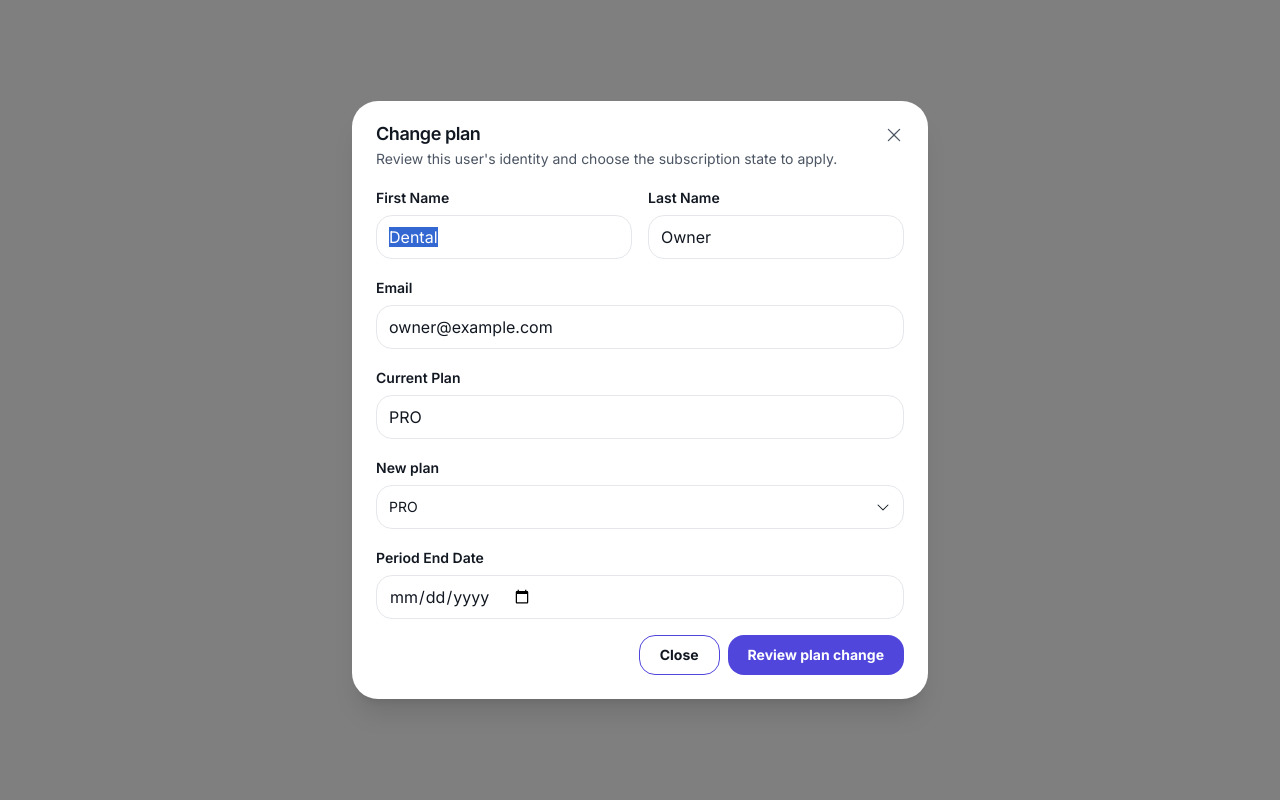
Test: UpgradePlanModal › preserves the plan form and draft when the mutation fails
Type "2027-03-15" into the date field labelled "Period End Date" at coordinates (640, 597), box [376,575,904,619]
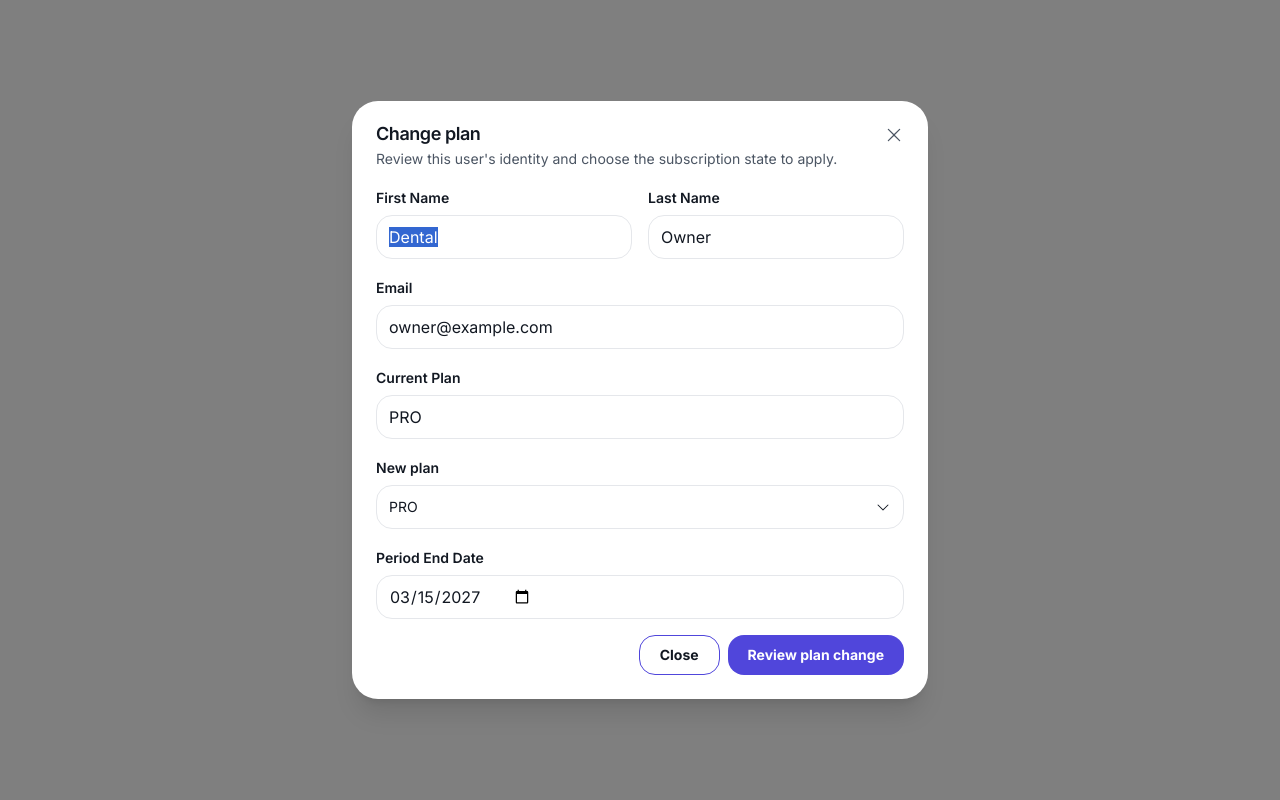
Click the button "Review plan change" at coordinates (816, 655), box [728,635,904,675]
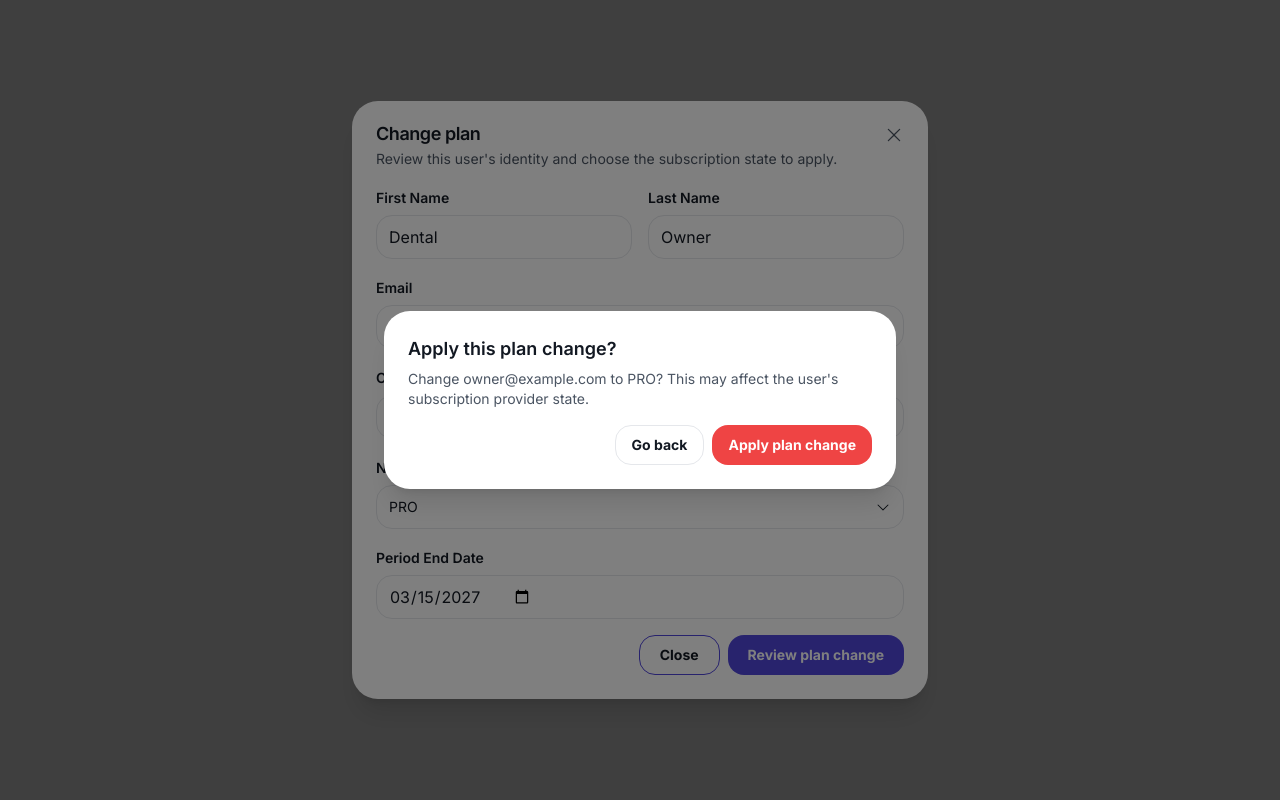
Click the button "Apply plan change" at coordinates (792, 445), box [712,425,872,465]
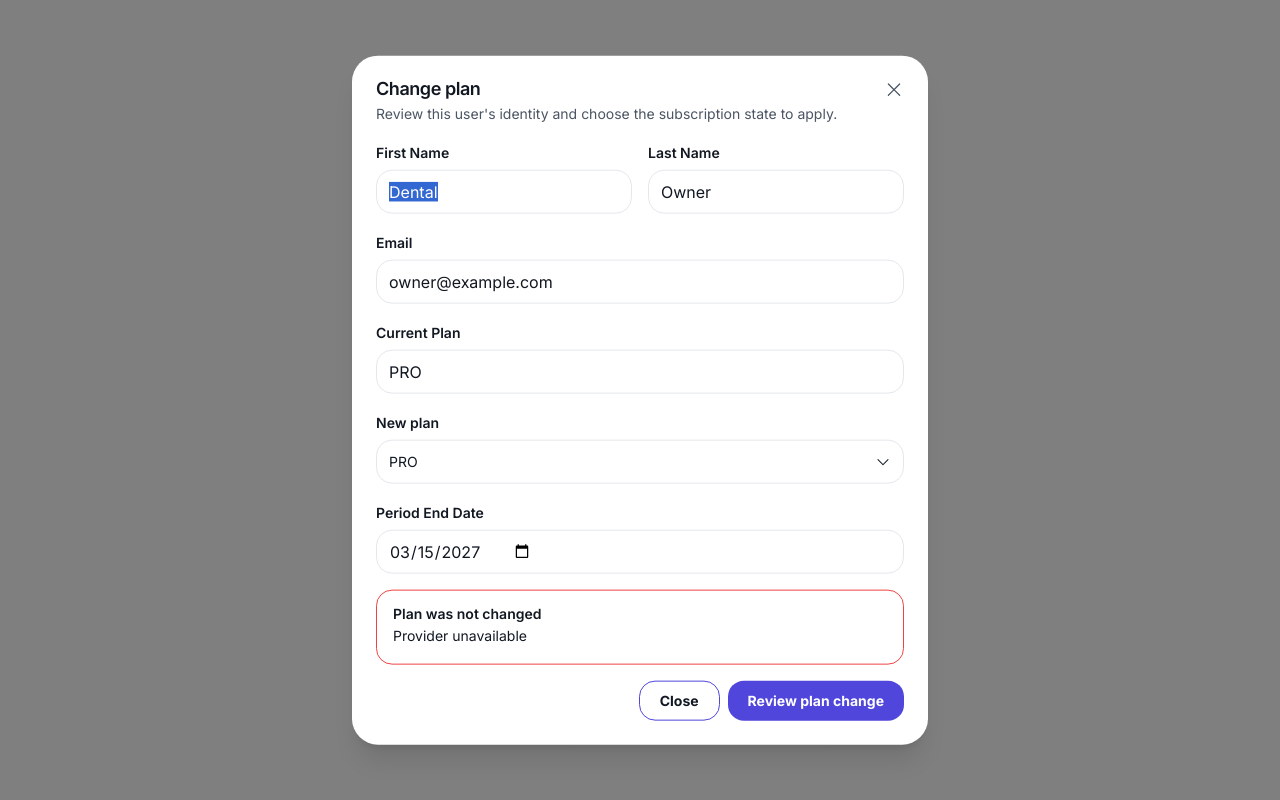
Expected: the dialog "Change plan" is shown, [352,56,928,744]
Now the text "Provider unavailable" is shown, box [393,627,527,644]
